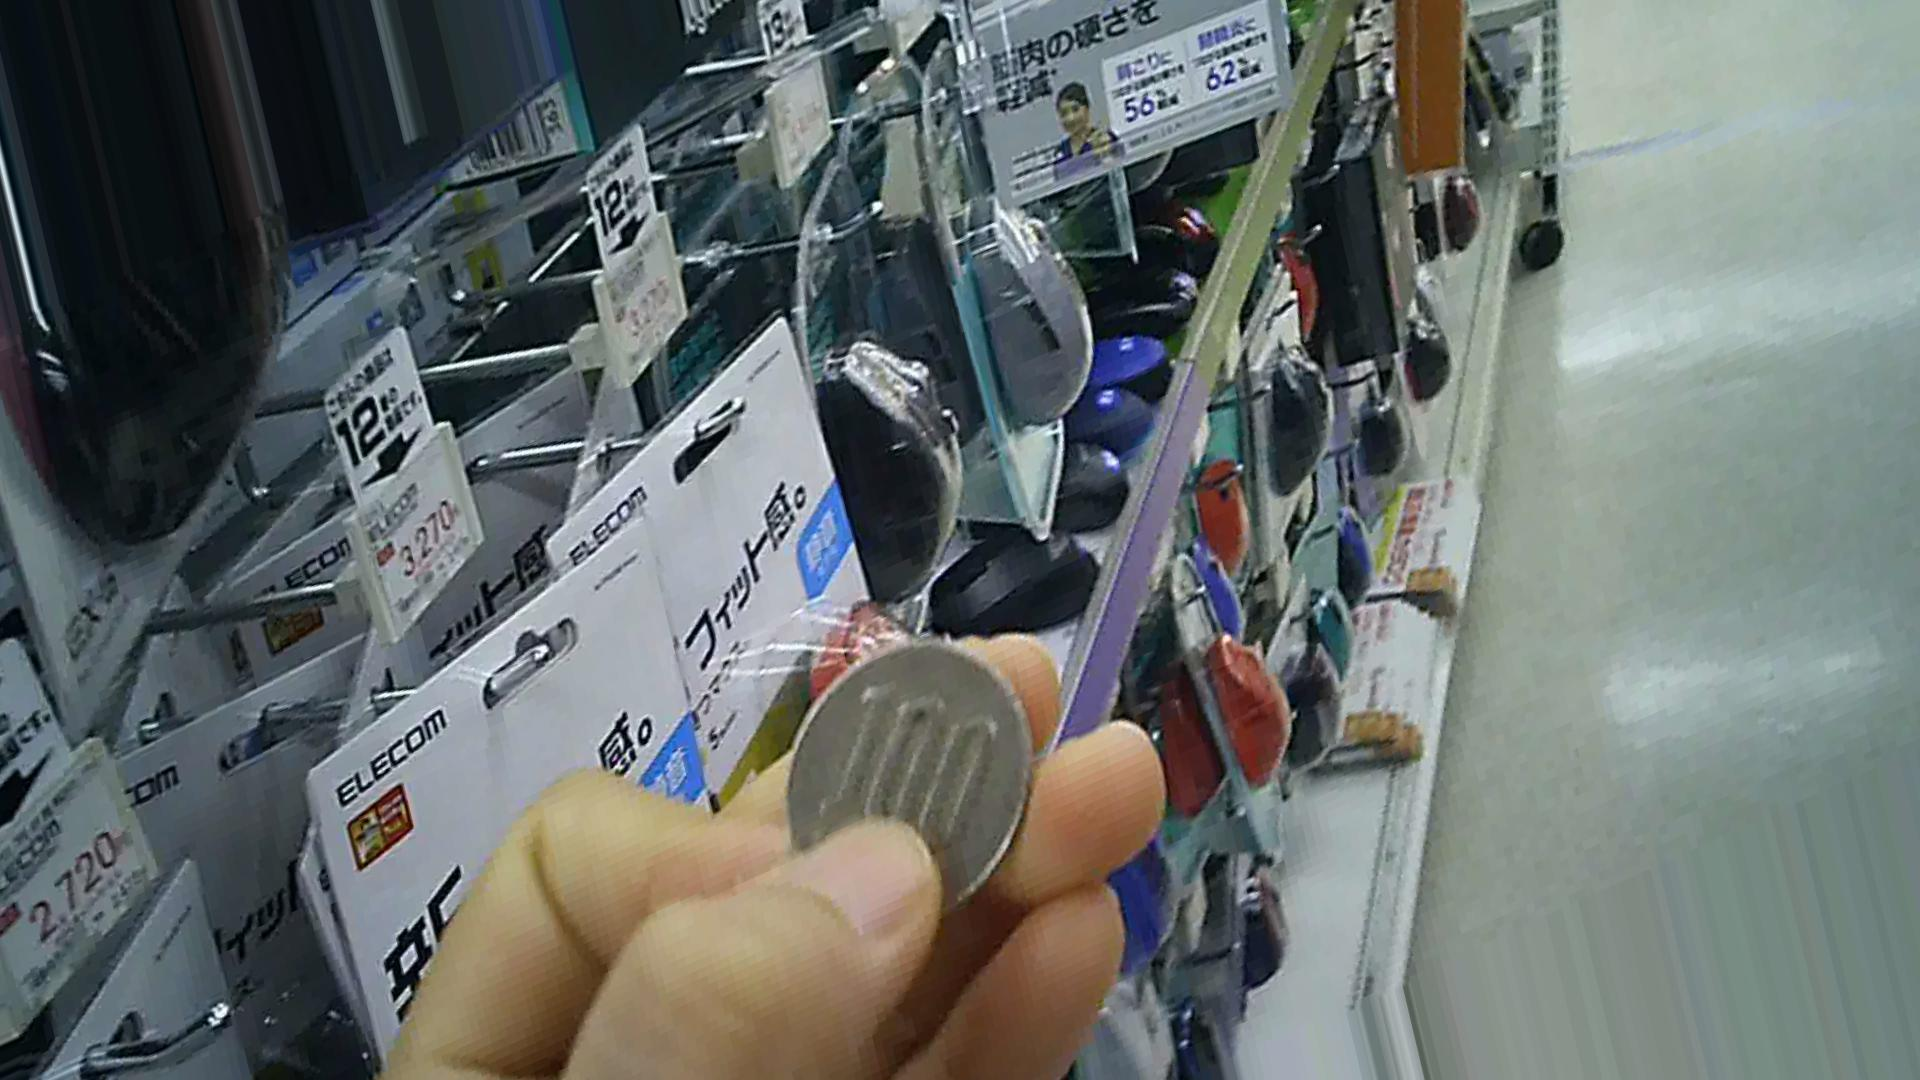100 Yen: (746, 647, 1044, 902)
